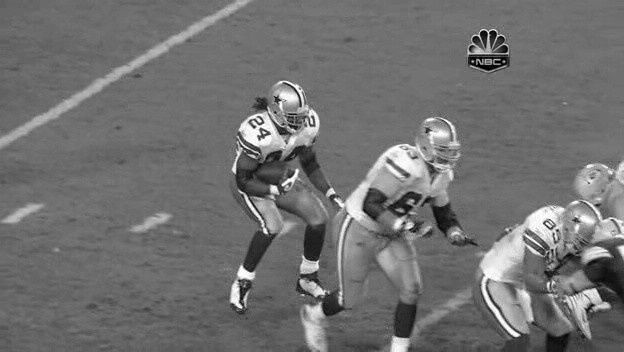person: (272, 83, 308, 129), (271, 83, 307, 129), (273, 83, 309, 129), (272, 82, 308, 128), (272, 84, 308, 130)
target_negative: (336, 71, 545, 253), (116, 117, 372, 227), (77, 159, 309, 250), (157, 180, 369, 269), (264, 63, 368, 199), (170, 161, 244, 236)
